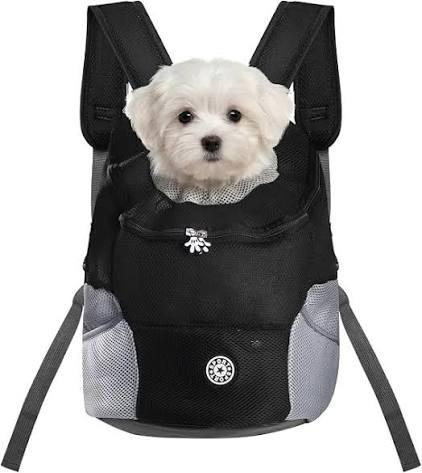puppy-dog: (122, 58, 296, 183)
